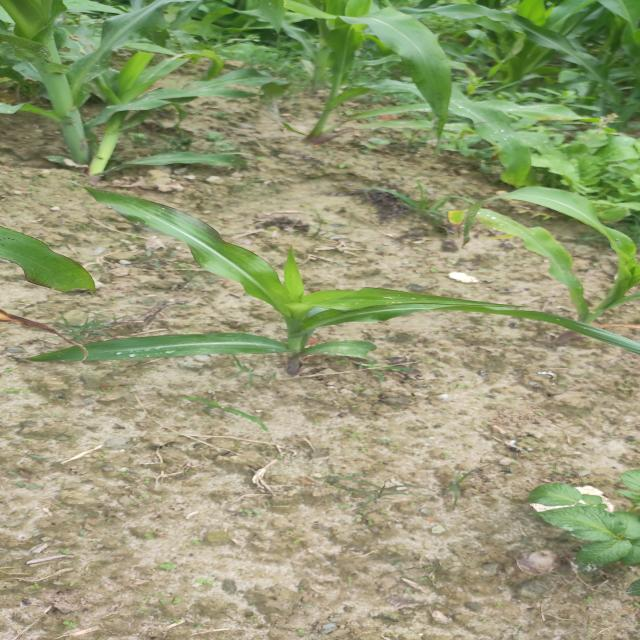maize: (71, 175, 510, 399), (0, 0, 227, 164), (236, 3, 387, 139)
weed: (513, 465, 640, 560)
